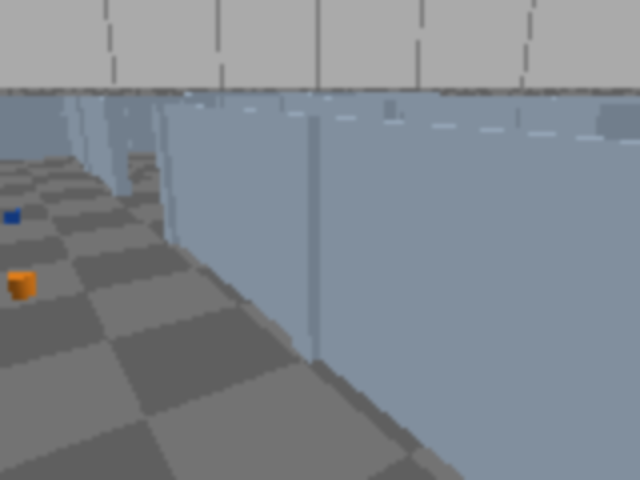puck: (9, 270, 36, 300), (4, 210, 21, 224)
